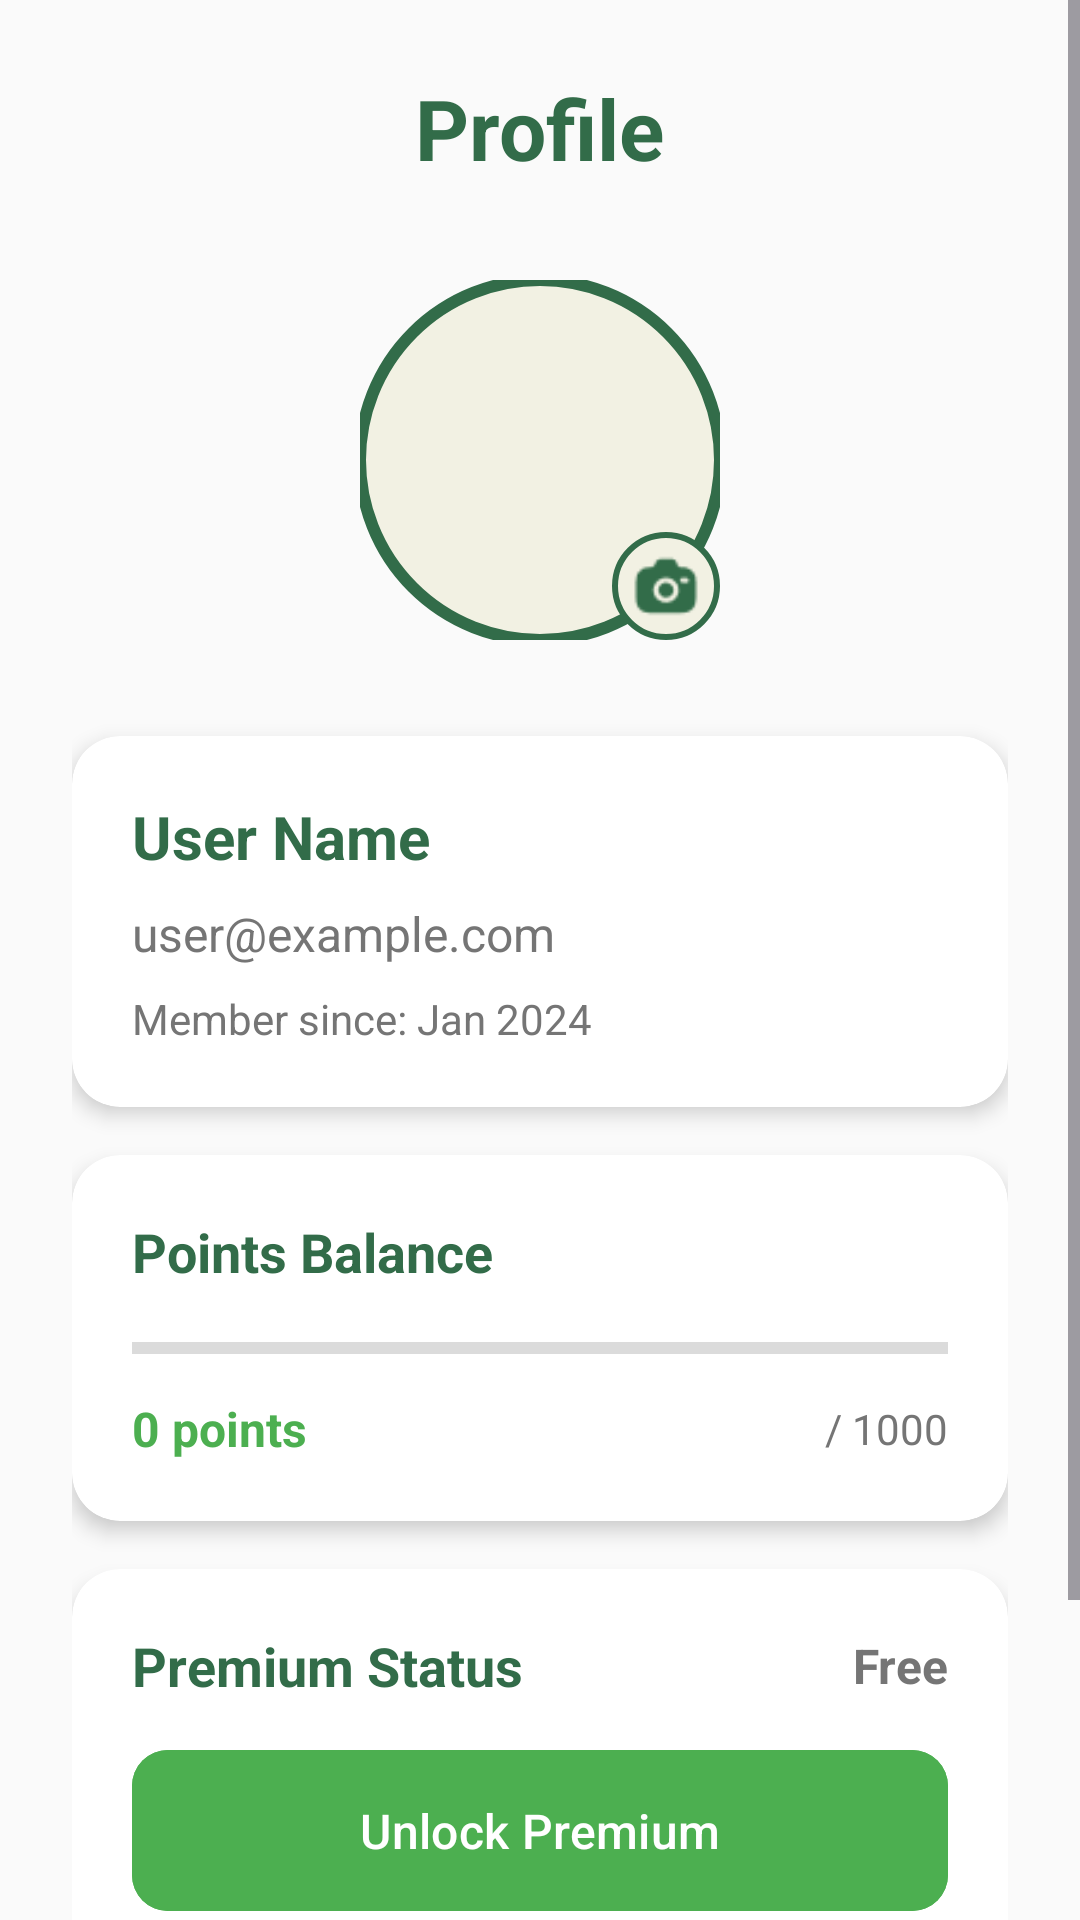

Screen size 1080×1920. Icon name, then its center in pixels as [x,y]:
camera: [666,586]
